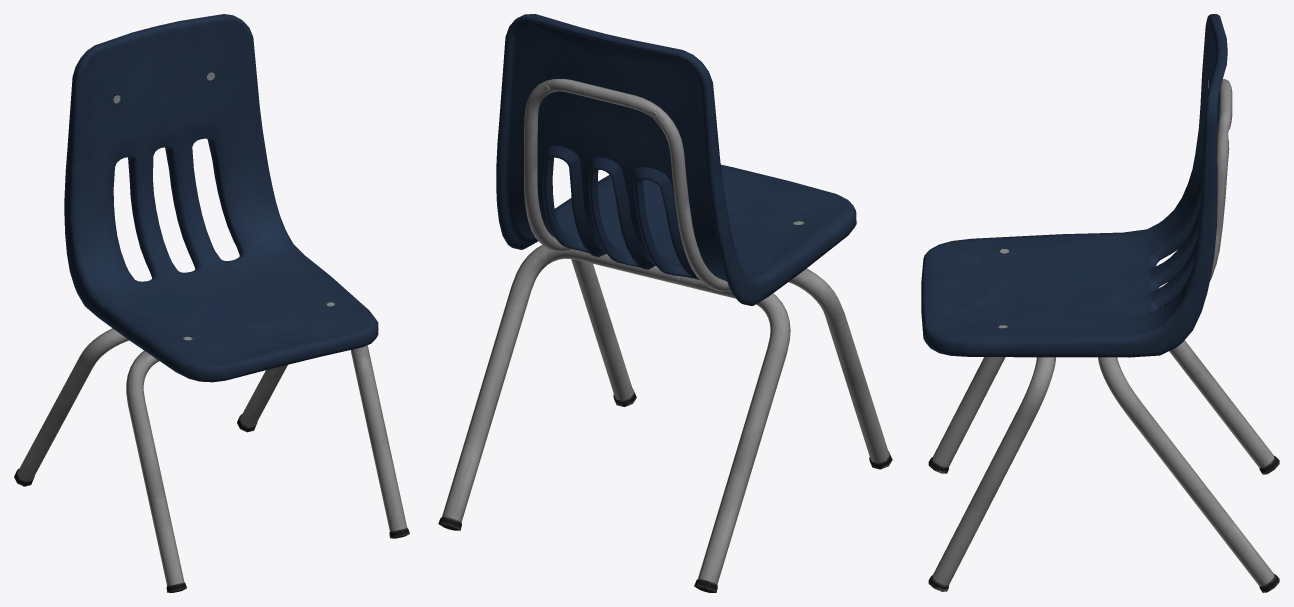
File: SchoolChair_01.glb
3 views of the same model, side by side, from view 1: azimuth 30°, elevation 25°; view 2: azimuth 150°, elevation 25°; view 3: azimuth 270°, elevation 25° (orthographic). The views are drawn at different scales.
Parts seen in each view (by area): view 1: SchoolChair_01; view 2: SchoolChair_01; view 3: SchoolChair_01.
Boxes of the visible parts, x1,y1,x2,y2 form: SchoolChair_01: [14, 14, 409, 592]; SchoolChair_01: [438, 14, 892, 592]; SchoolChair_01: [921, 14, 1279, 592].
Bounding box in the file's own units: 0.5659 × 1.01 × 0.6753.
Materials: 1 (1 with a texture image).
